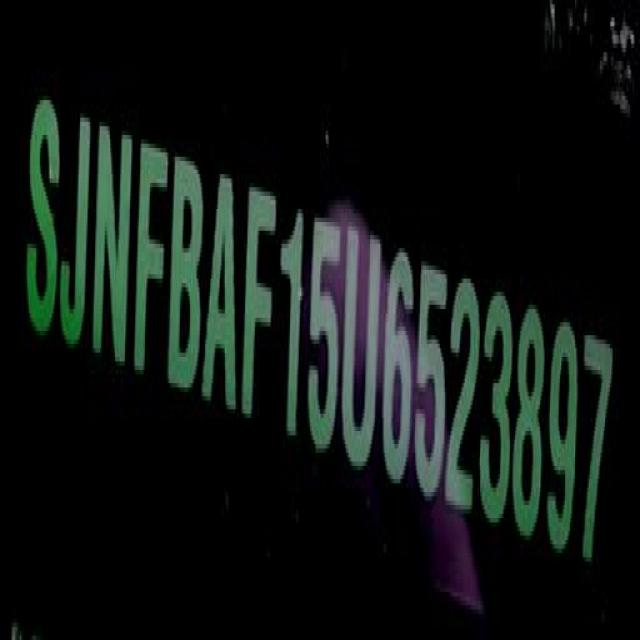1: (278, 195, 306, 439)
2: (446, 271, 479, 524)
3: (479, 287, 514, 534)
5: (306, 213, 342, 447), (417, 255, 447, 493)
6: (382, 230, 417, 497)
7: (584, 326, 614, 569)
8: (509, 308, 545, 548)
9: (545, 319, 579, 550)
A: (204, 165, 238, 418)
B: (166, 161, 204, 387)
F: (242, 174, 277, 431), (132, 129, 166, 385)
J: (62, 105, 92, 351)
N: (92, 115, 134, 374)
S: (26, 95, 60, 361)
U: (342, 229, 381, 480)
